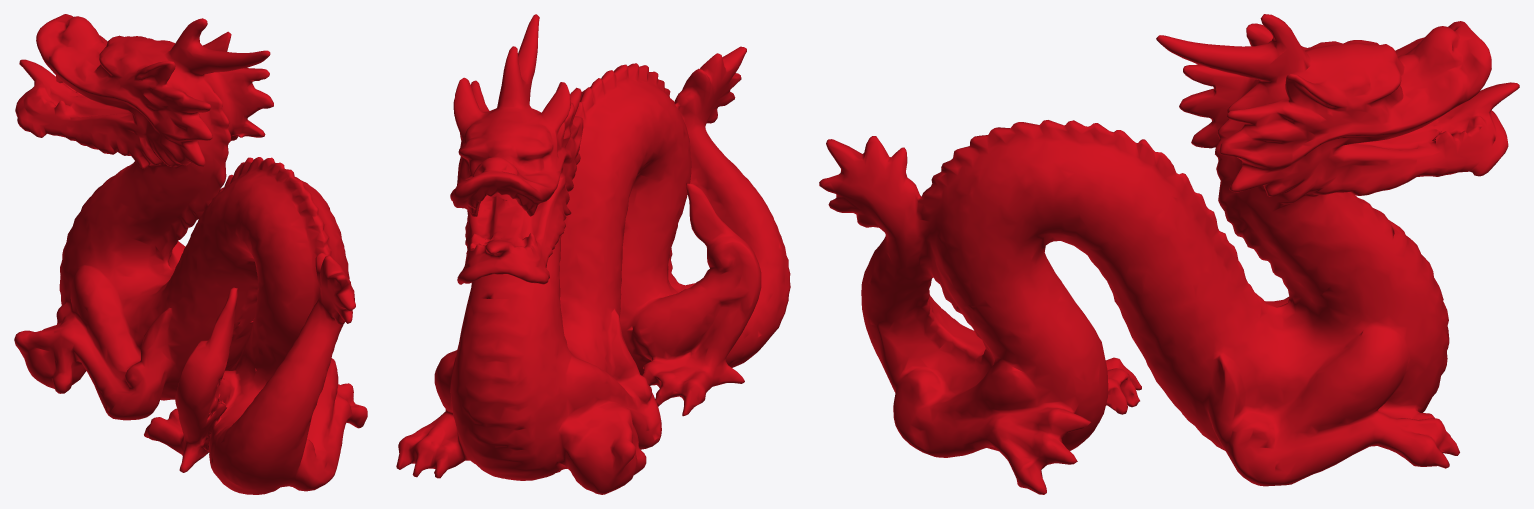
The model's file is dragon.obj.
3 renders of one model, left to right at view 1: azimuth 30°, elevation 25°; view 2: azimuth 150°, elevation 25°; view 3: azimuth 270°, elevation 25°, orthographic. The views are drawn at different scales.
Parts seen in each view (by area): view 1: dragon; view 2: dragon; view 3: dragon.
Part boxes in pixels (box(x1,y1,x2,y2)): dragon: box(14, 14, 367, 494); dragon: box(396, 14, 790, 494); dragon: box(819, 14, 1519, 494).
Size of the model in its own units: 0.4476 by 0.7049 by 1.
